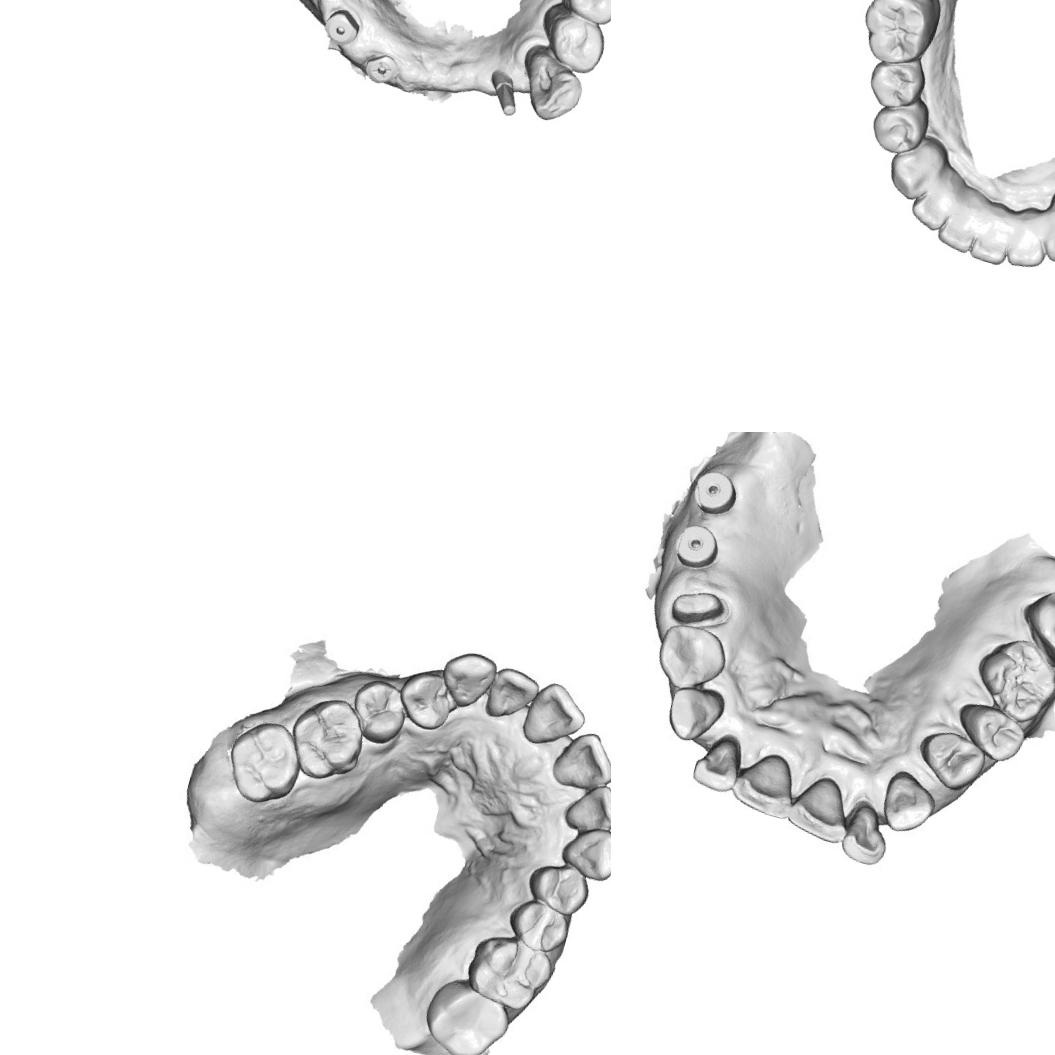abutment: (480, 65, 527, 122)
canine: (511, 44, 592, 128), (882, 127, 952, 206), (661, 678, 730, 752), (874, 766, 941, 837), (435, 645, 498, 713), (556, 817, 611, 884), (1035, 177, 1055, 270)
crown: (664, 577, 733, 634)
implant: (686, 462, 744, 523), (670, 518, 722, 572), (319, 3, 364, 48)
implant_plus: (357, 47, 403, 88)
incisor: (780, 770, 854, 844), (726, 750, 798, 824), (519, 681, 585, 753), (547, 724, 611, 796), (833, 797, 895, 870), (904, 158, 962, 236), (686, 726, 745, 798), (932, 181, 986, 255), (1003, 203, 1055, 272), (486, 662, 542, 724), (967, 200, 1018, 267), (559, 774, 611, 838)
molar: (967, 624, 1055, 731), (460, 927, 558, 1017), (216, 714, 306, 811), (282, 690, 370, 788), (415, 970, 516, 1055), (852, 0, 945, 74), (1009, 573, 1055, 672)
premolar: (644, 616, 734, 703), (530, 0, 611, 77), (912, 720, 990, 796), (948, 695, 1028, 769), (518, 852, 597, 920), (501, 894, 576, 961), (865, 90, 934, 160), (395, 664, 460, 737), (349, 674, 414, 746), (863, 51, 930, 114), (550, 0, 611, 28)
